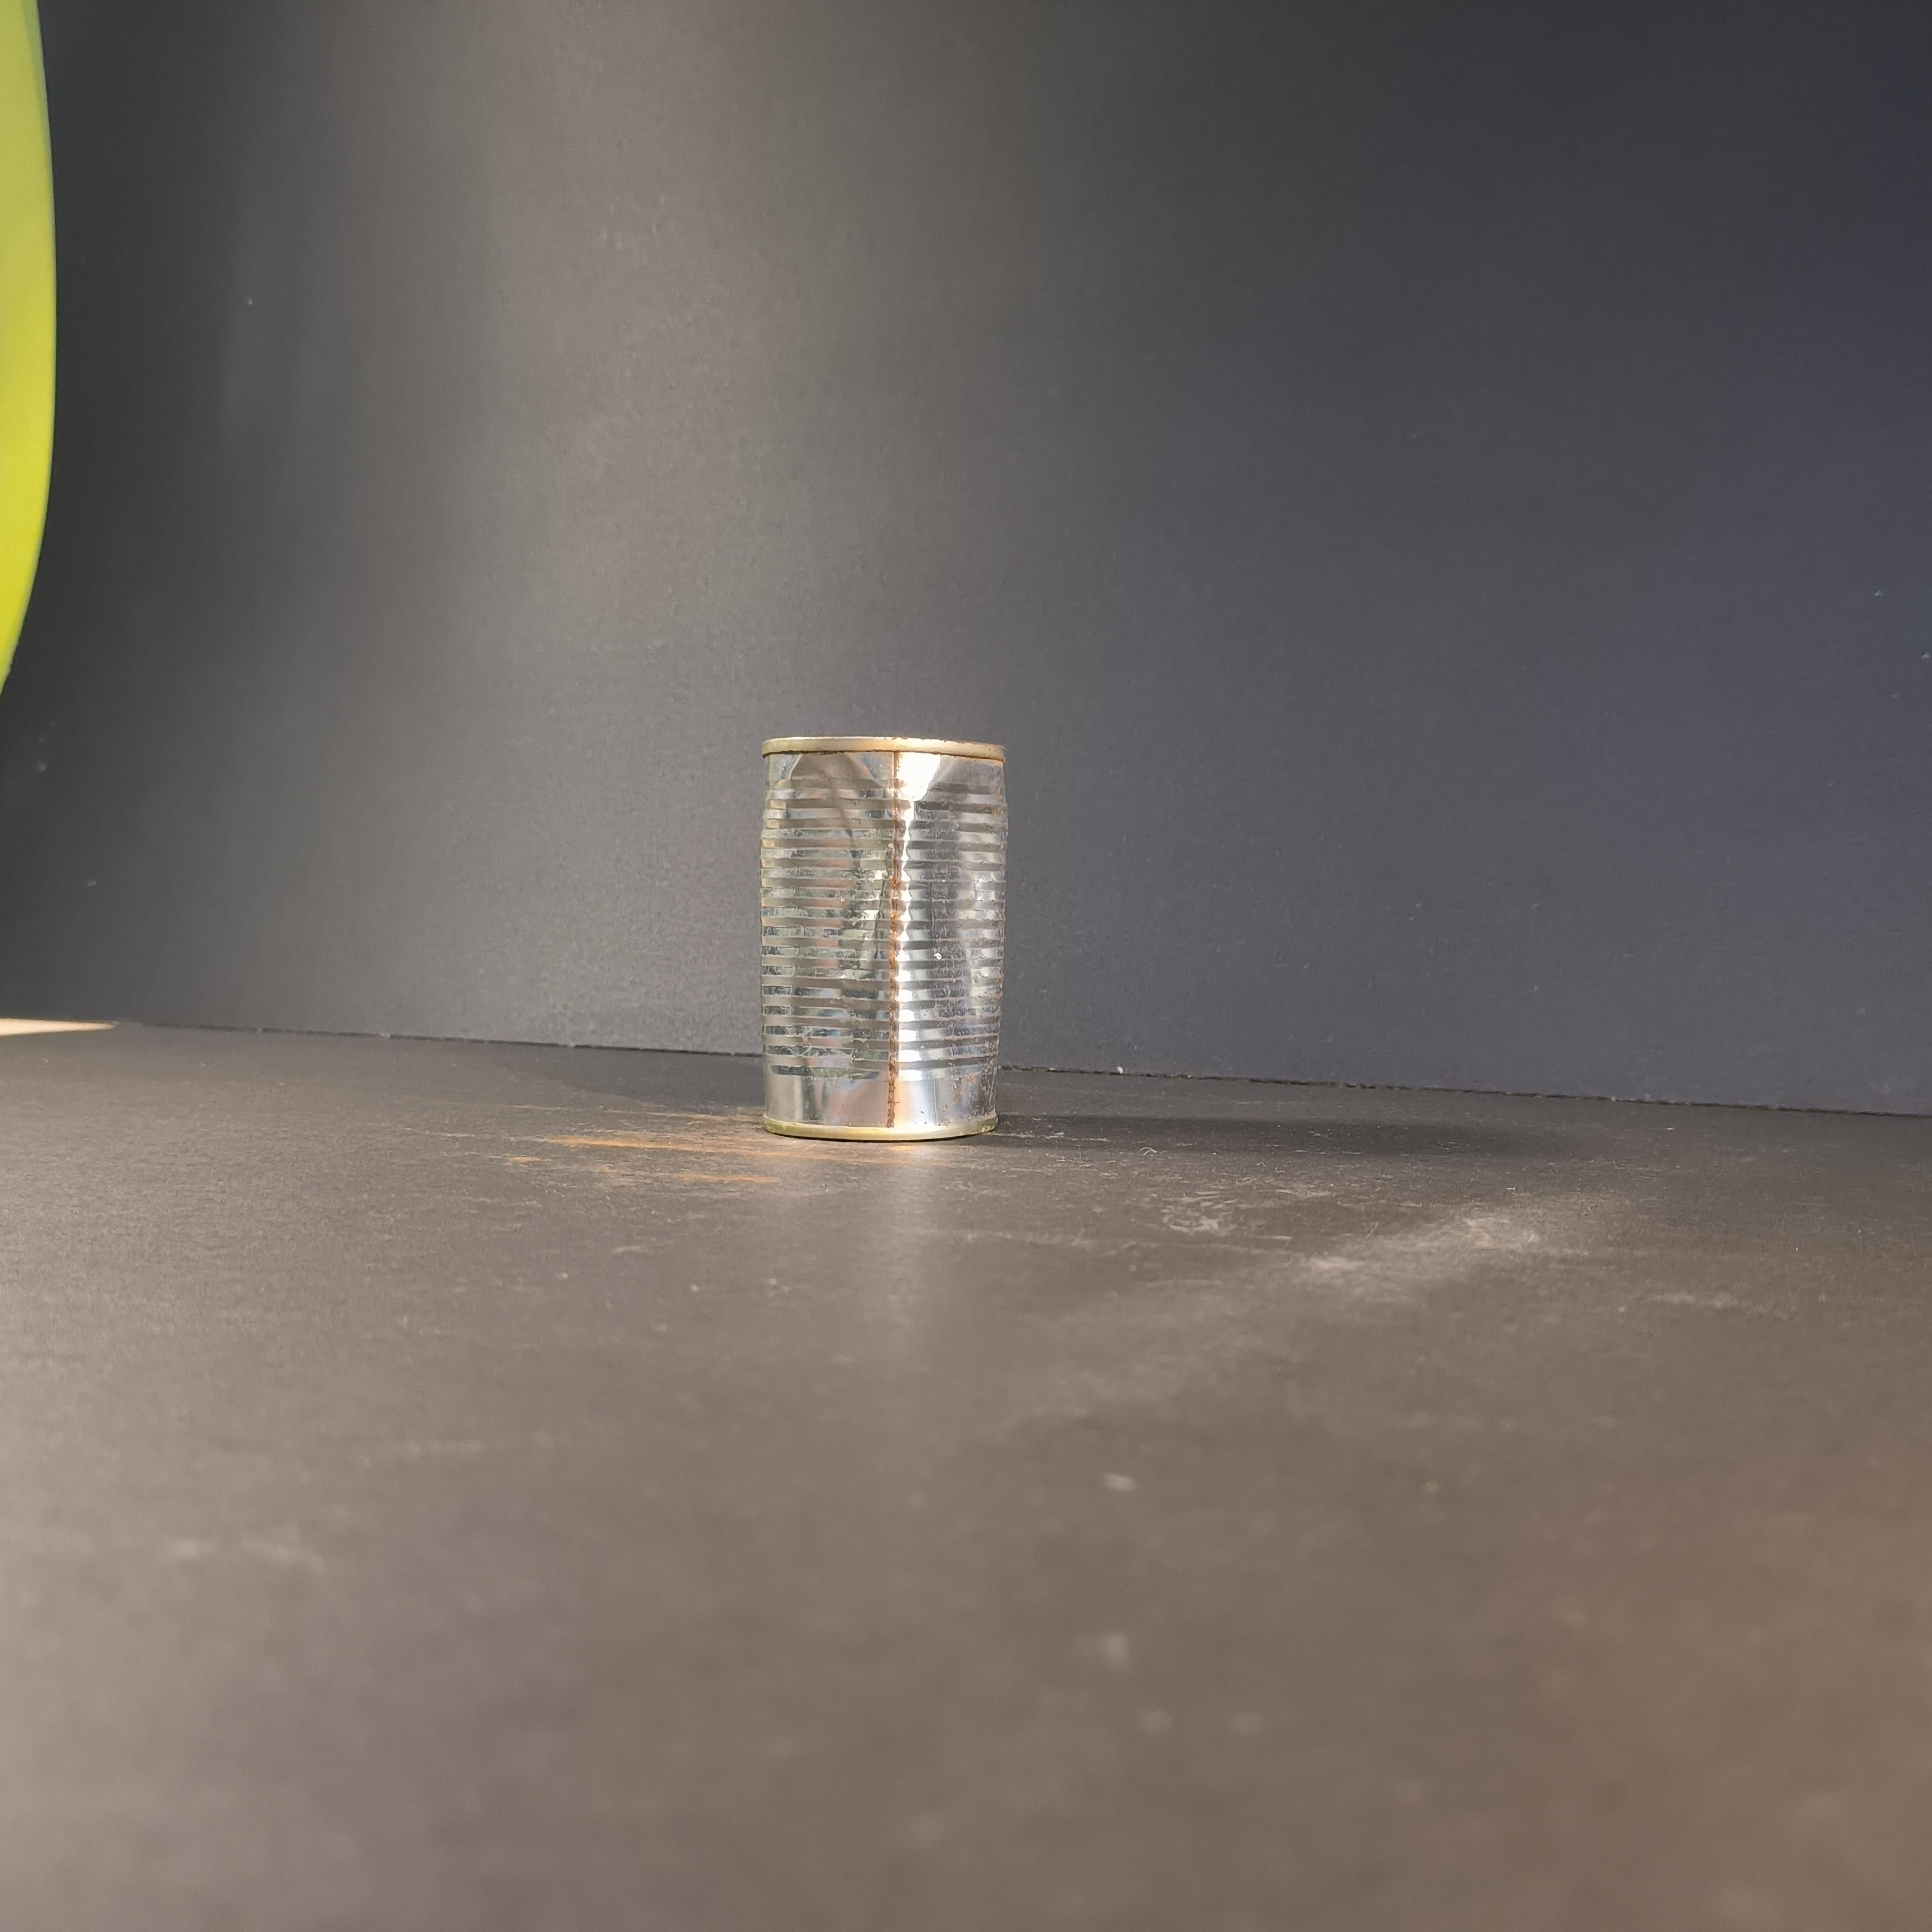Dented: (734, 695, 1024, 1180)
